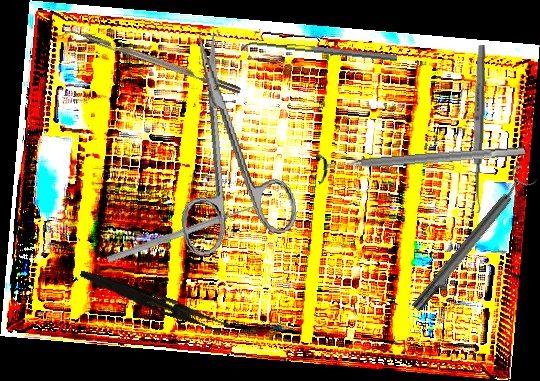Chopper: (56, 22, 242, 103)
Dressing Forceps: (76, 267, 232, 336)
Fixation Ring: (403, 162, 540, 317), (315, 134, 527, 187)
Iris Scissors: (152, 21, 302, 260)
Pusher: (106, 199, 264, 265)
Spatula Surgical: (240, 38, 398, 68)
Surgical Spoon: (470, 44, 487, 214)
